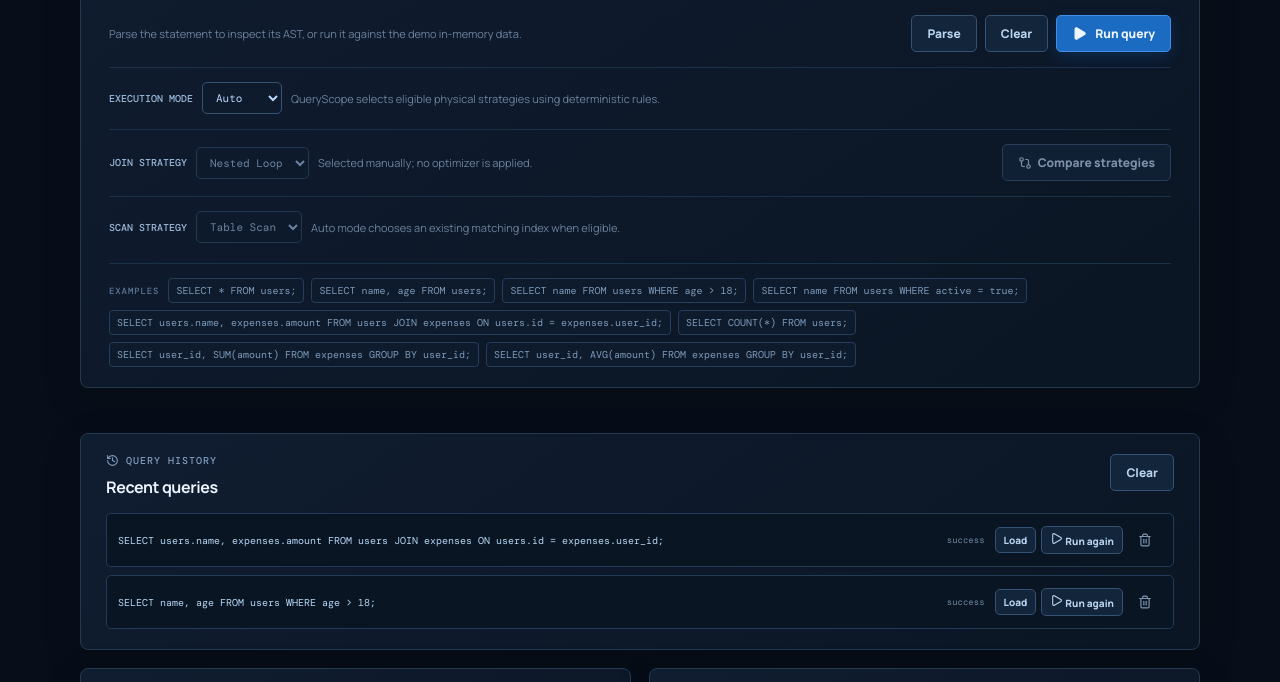
Scenario: App › selects hash execution and compares equivalent join results
(page scrolled)
Click the button "SELECT users.name, expenses.amount": (390, 323) 109,310 -> 671,335
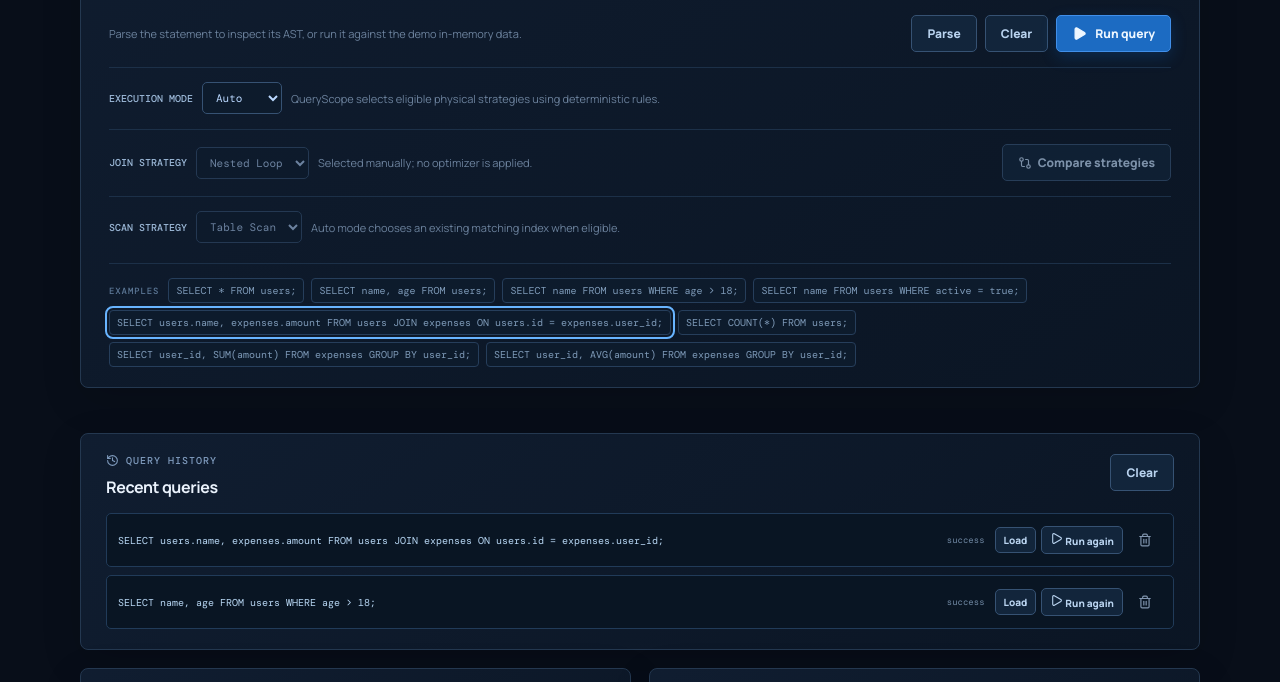
Select "Manual" in the dropdown labelled "Execution mode": (242, 98) 202,82 -> 282,114
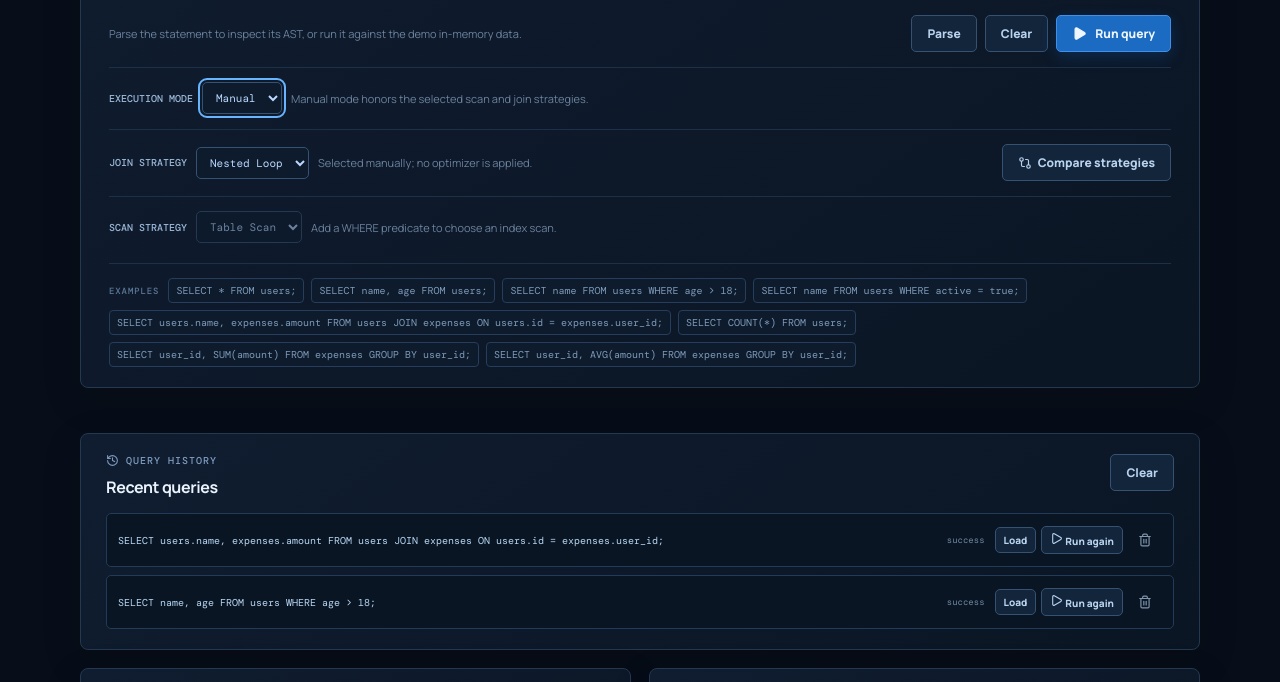
Result: the dropdown labelled "Join strategy" is enabled
Select "Hash Join" in the dropdown labelled "Join strategy": (252, 163) 196,147 -> 309,179
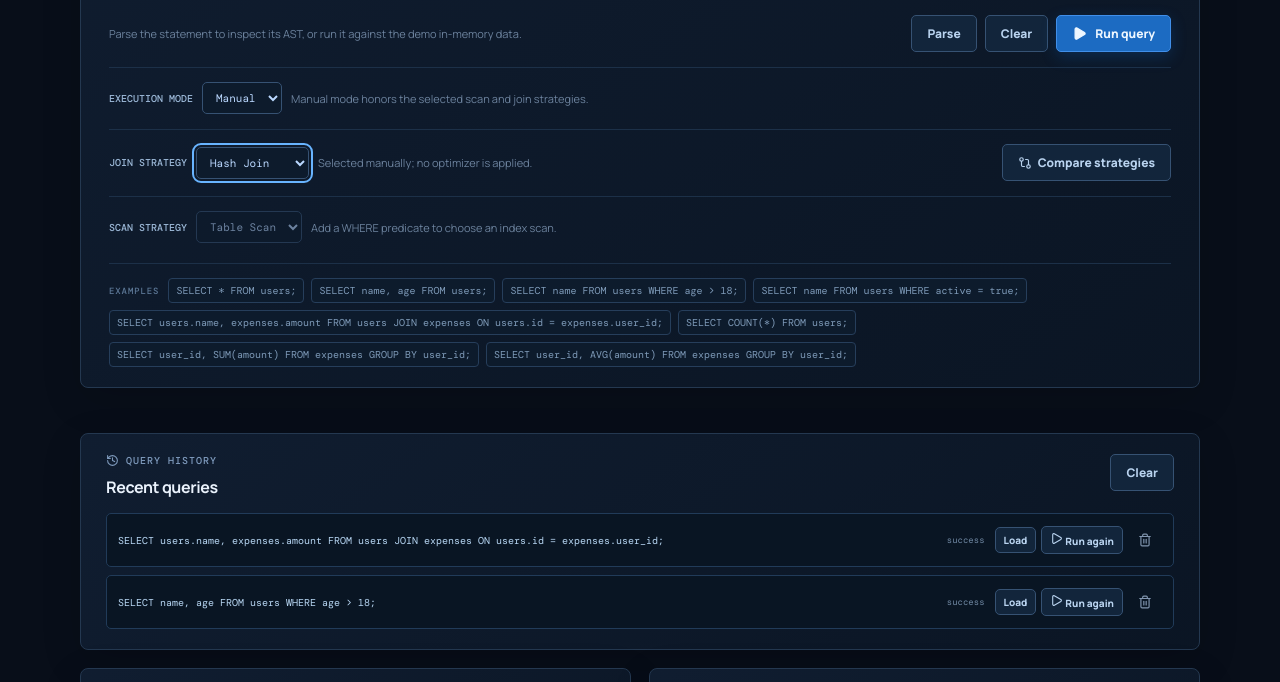
Click the button "Run query": (1114, 34) 1056,15 -> 1171,52
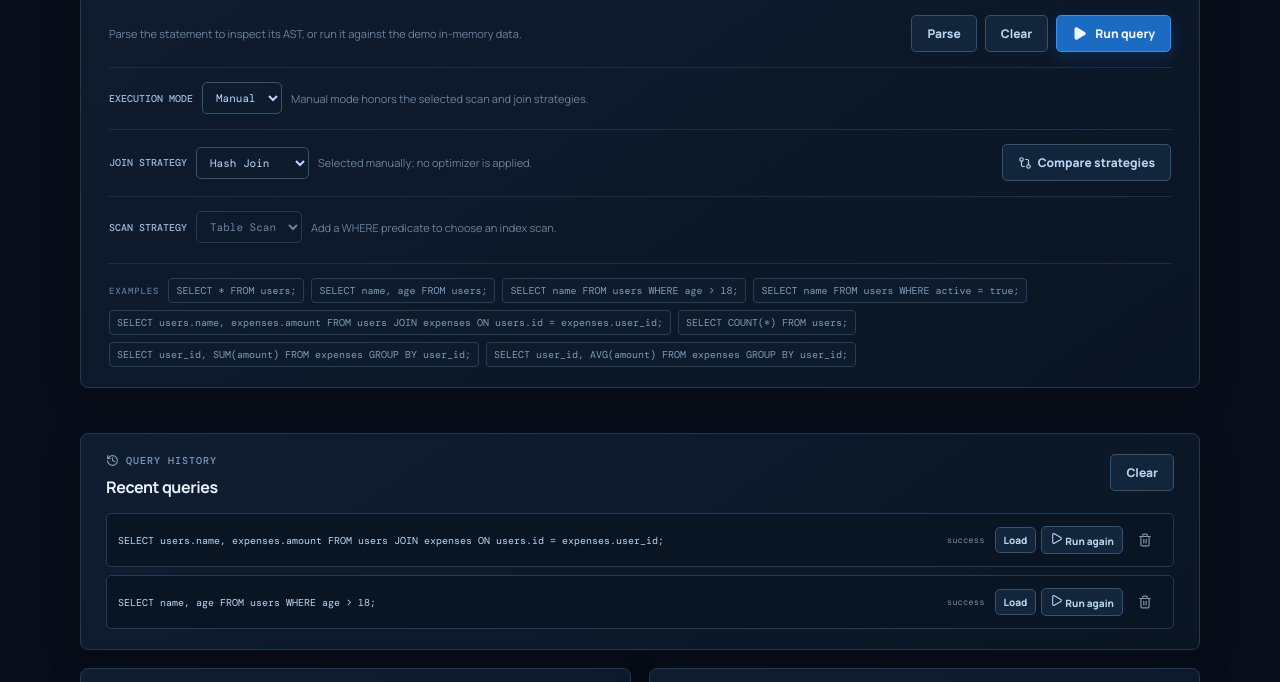
Click the button "Compare strategies": (1086, 163) 1002,144 -> 1171,181
(page scrolled)
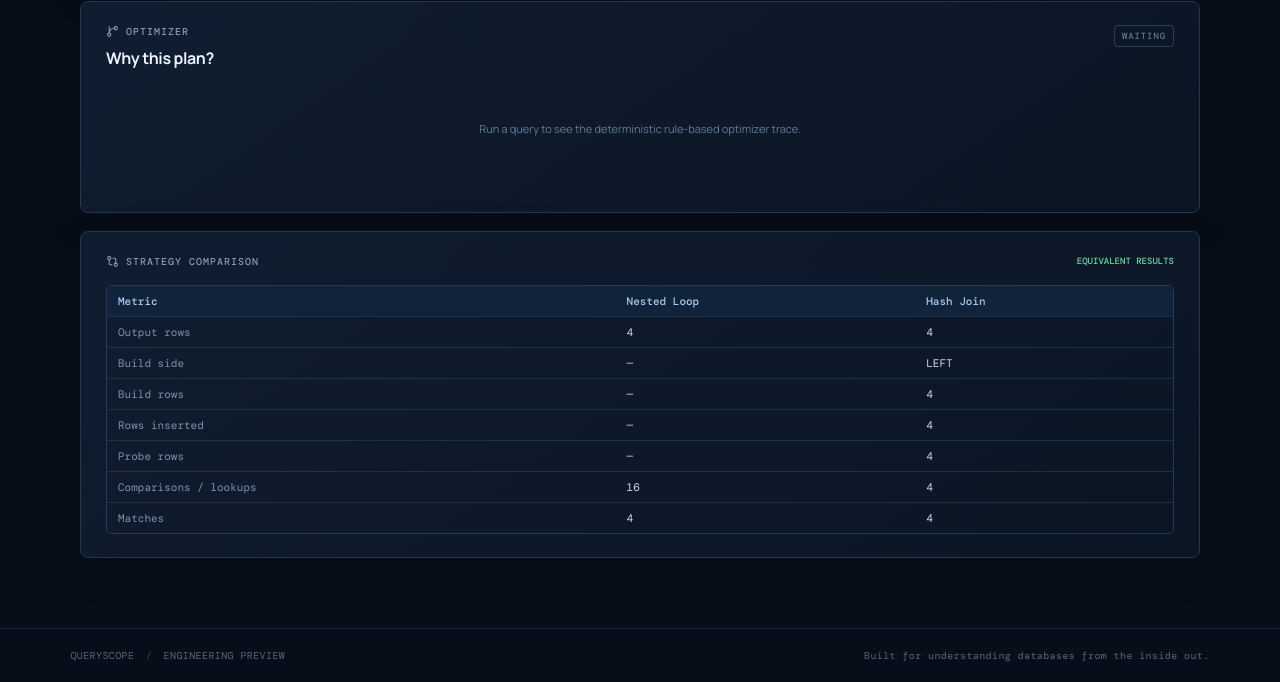
Result: the text "EQUIVALENT RESULTS" is shown at 1077,255 -> 1174,267
Result: the text "Comparisons / lookups" is shown at 107,471 -> 616,502
Result: the text "Rows inserted" is shown at 107,409 -> 616,440
